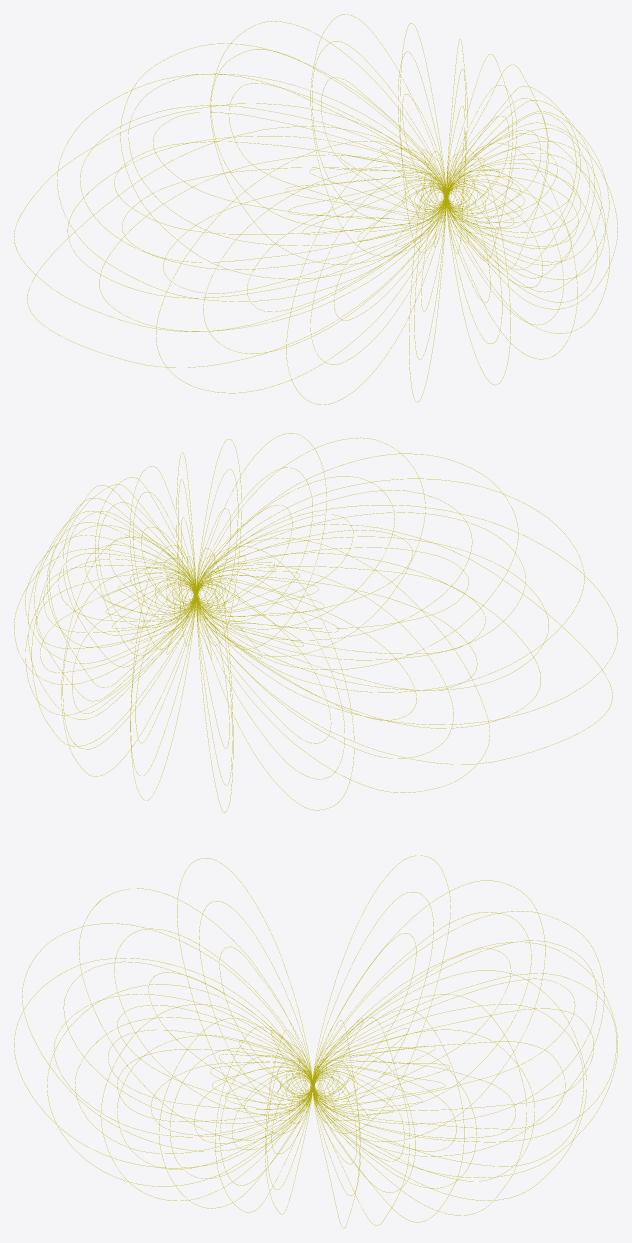
Rendered from saturn_magnetosphere.gltf.
3 renders of one model, top to bottom at view 1: azimuth 30°, elevation 25°; view 2: azimuth 150°, elevation 25°; view 3: azimuth 270°, elevation 25°, orthographic.
Visible parts, largest first — view 1: mag_curves_00.001; view 2: mag_curves_00.001; view 3: mag_curves_00.001.
Boxes of the visible parts, x1,y1,x2,y2 form: mag_curves_00.001: (14,14,617,404); mag_curves_00.001: (14,433,617,812); mag_curves_00.001: (14,855,617,1228).
Bounding box in the file's own units: 6867 × 2737 × 6421.
